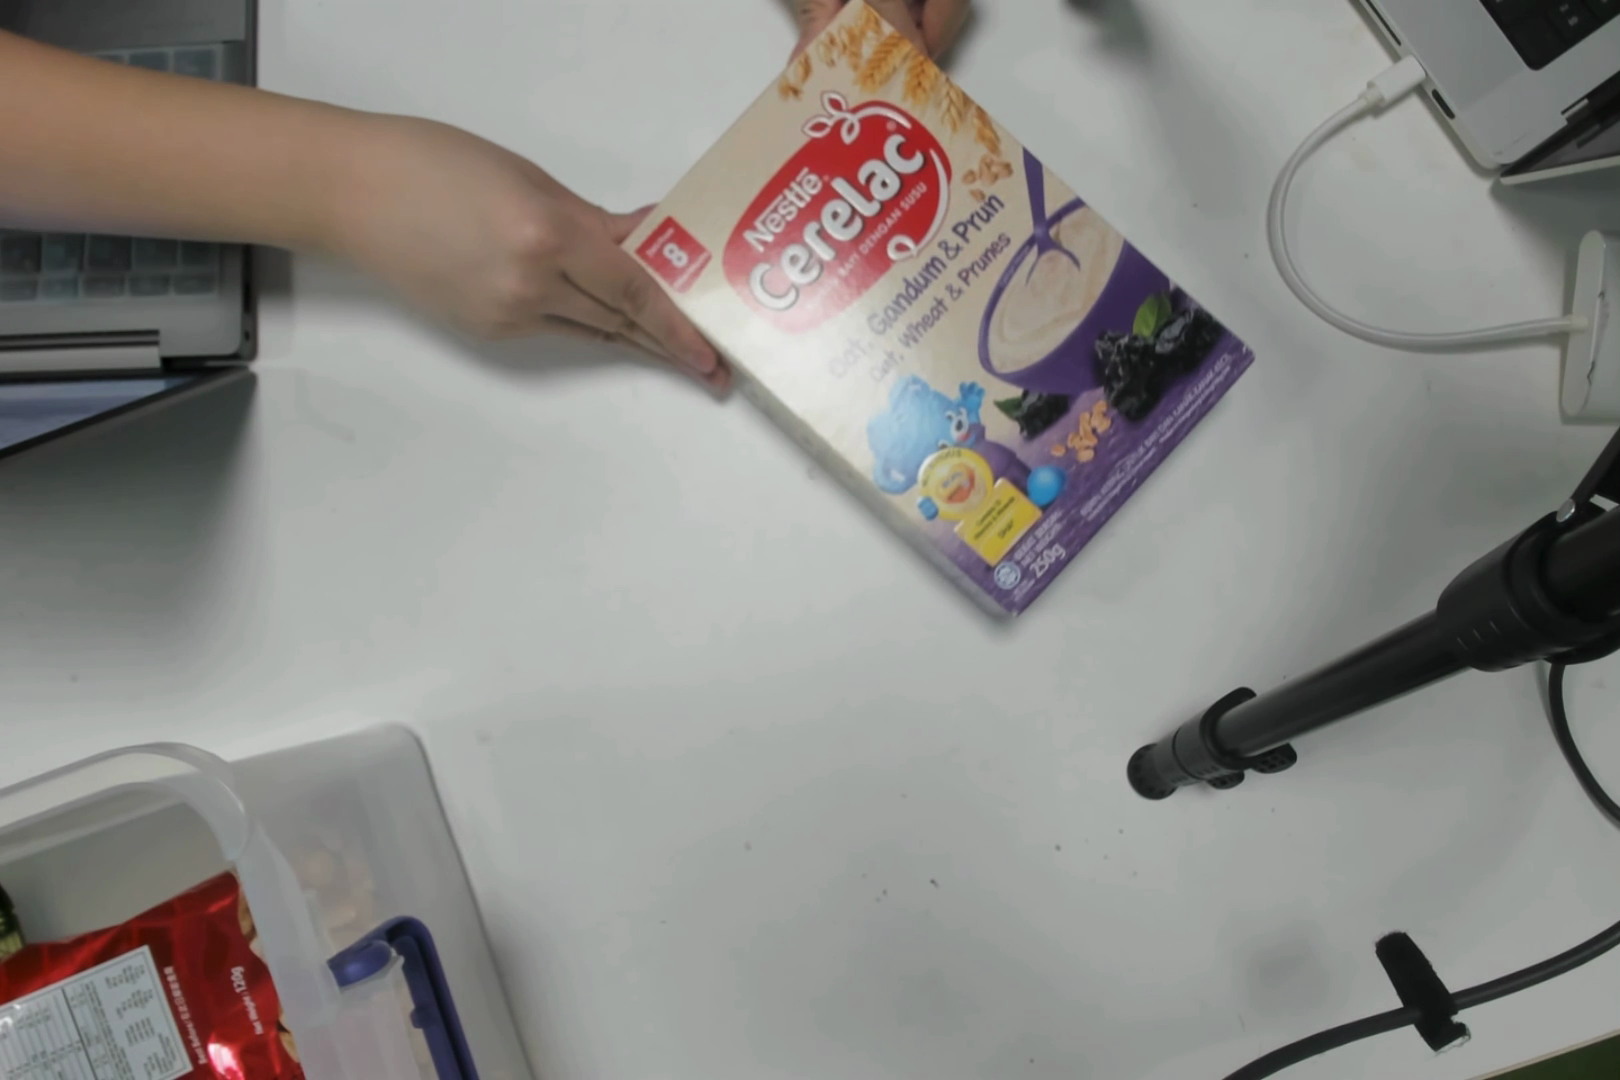d: (708, 57, 1179, 623)
